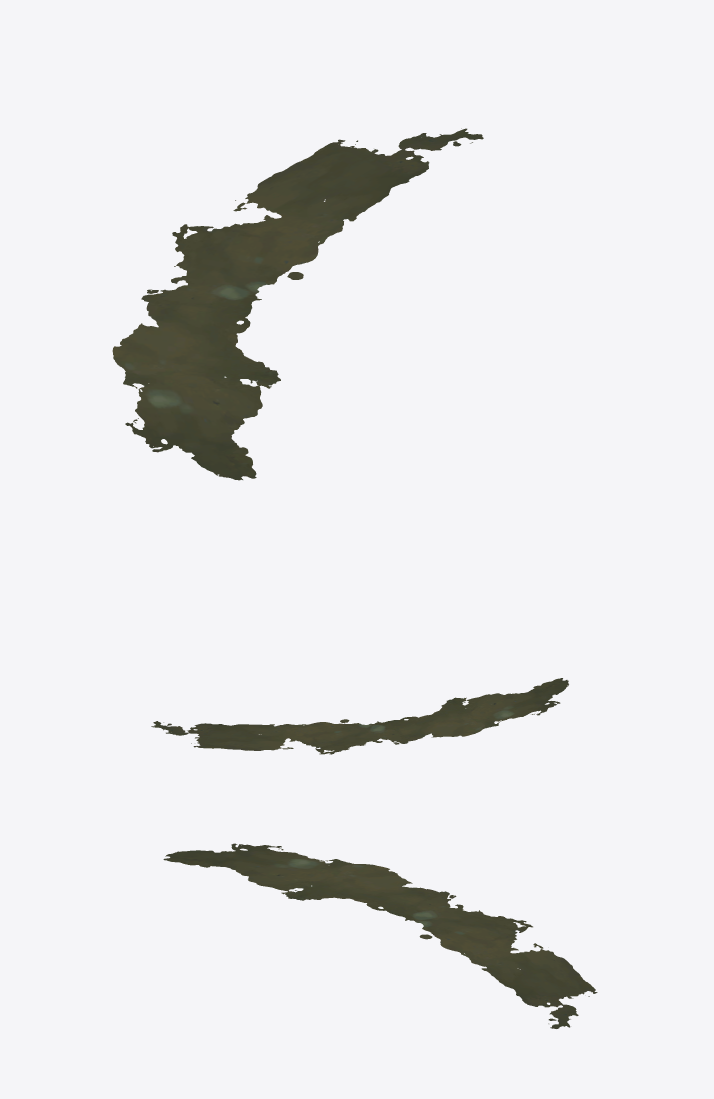
File: road_curve_rock1a.fbx
The picture shows the model from 3 angles, top to bottom: view 1: azimuth 30°, elevation 25°; view 2: azimuth 150°, elevation 25°; view 3: azimuth 270°, elevation 25°; orthographic projection. The views are drawn at different scales.
Parts seen in each view (by area): view 1: obj0.054; view 2: obj0.054; view 3: obj0.054.
Boxes of the visible parts, x1,y1,x2,y2 form: obj0.054: (112,128,483,480); obj0.054: (151,678,568,754); obj0.054: (163,843,597,1028).
Bounding box in the file's own units: 19.06 × 2.61e-06 × 19.7.
